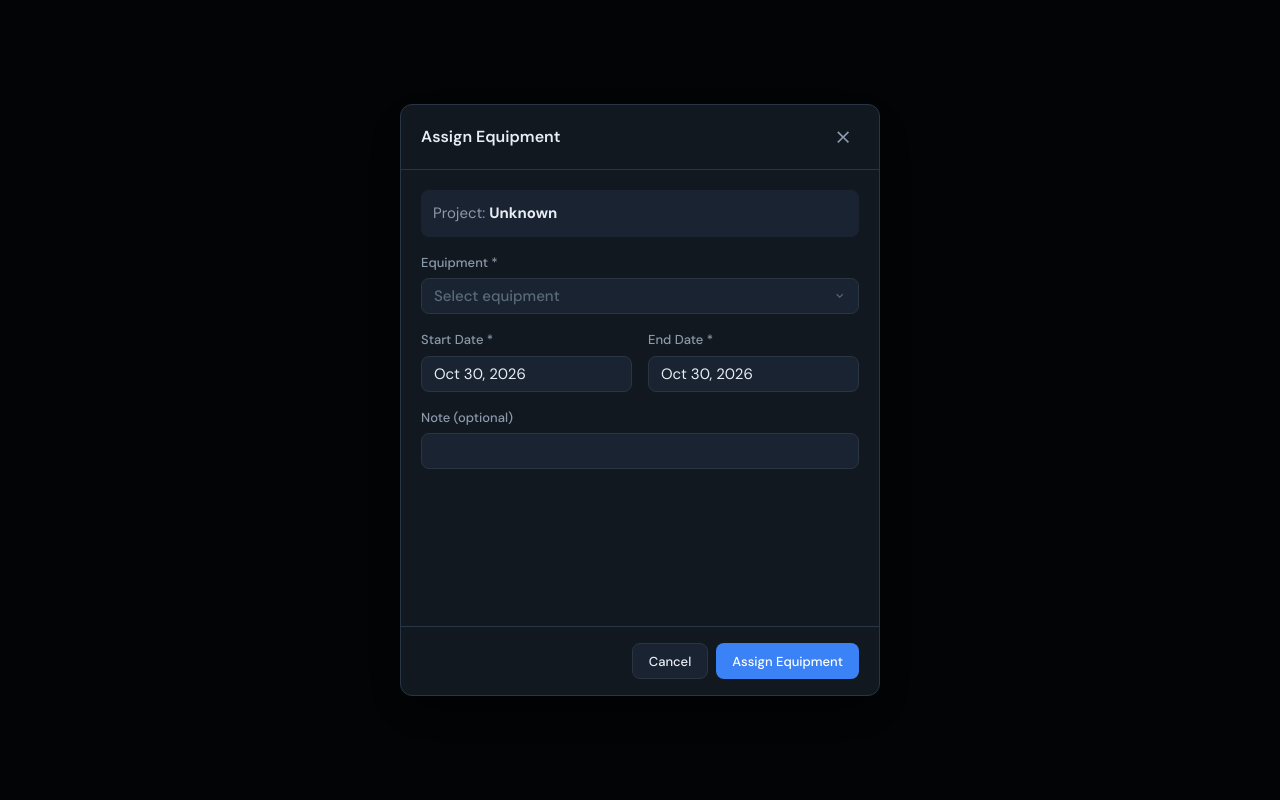
Test: AssignmentModal: the note of an equipment booking › refuses to book equipment without a project
Click the button "Select equipment".
click(497, 296)  # box [421,278,859,314]
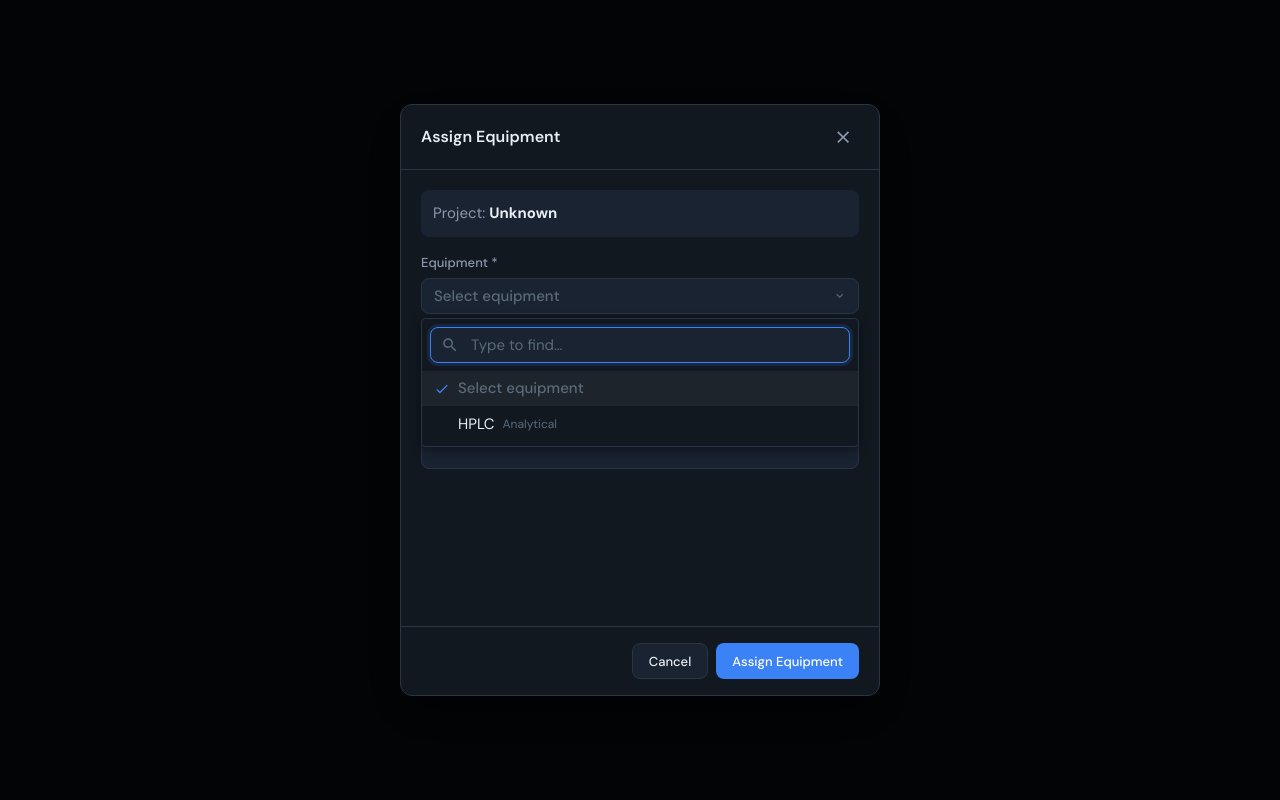
Click the option "HPLC Analytical".
click(508, 424)  # box [458,414,557,434]
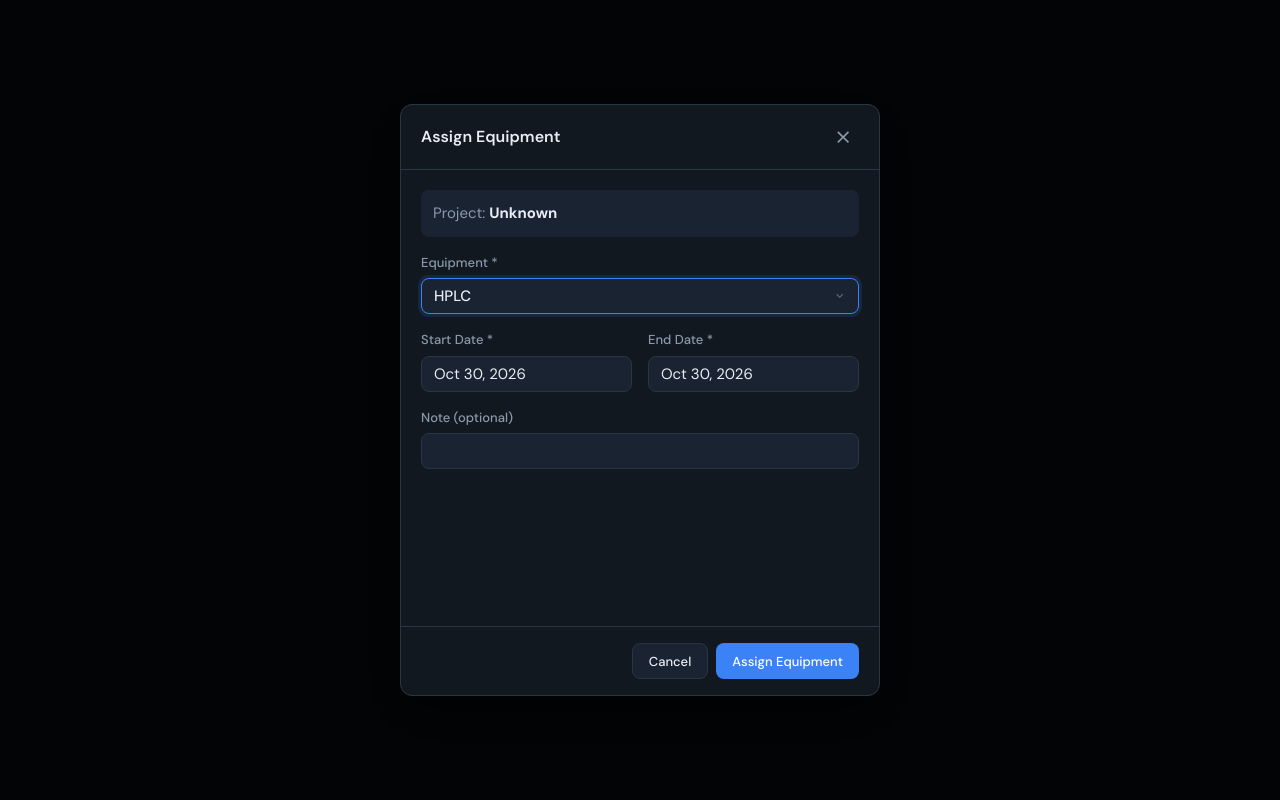
Click the button "Assign Equipment".
click(788, 661)  # box [716,643,859,679]
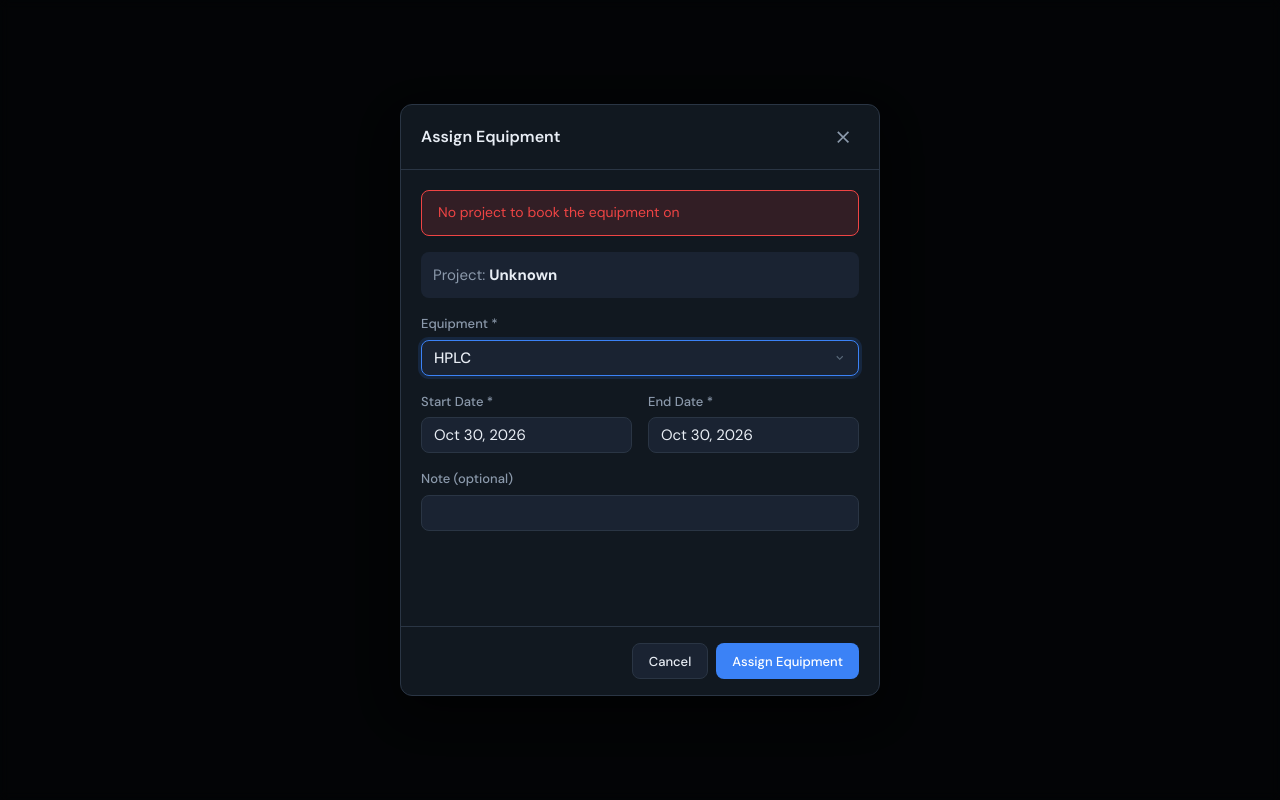
Expected: the text "No project to book the equipment on" is shown, [438,203,680,221]
